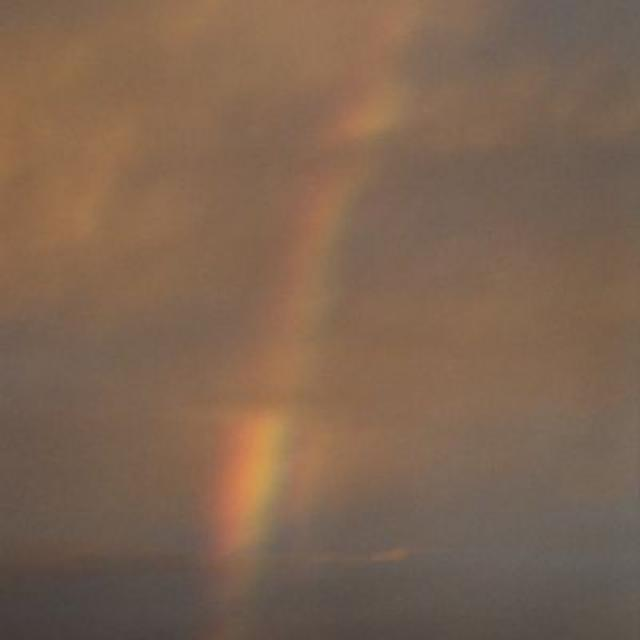As: (1, 36, 640, 602)
